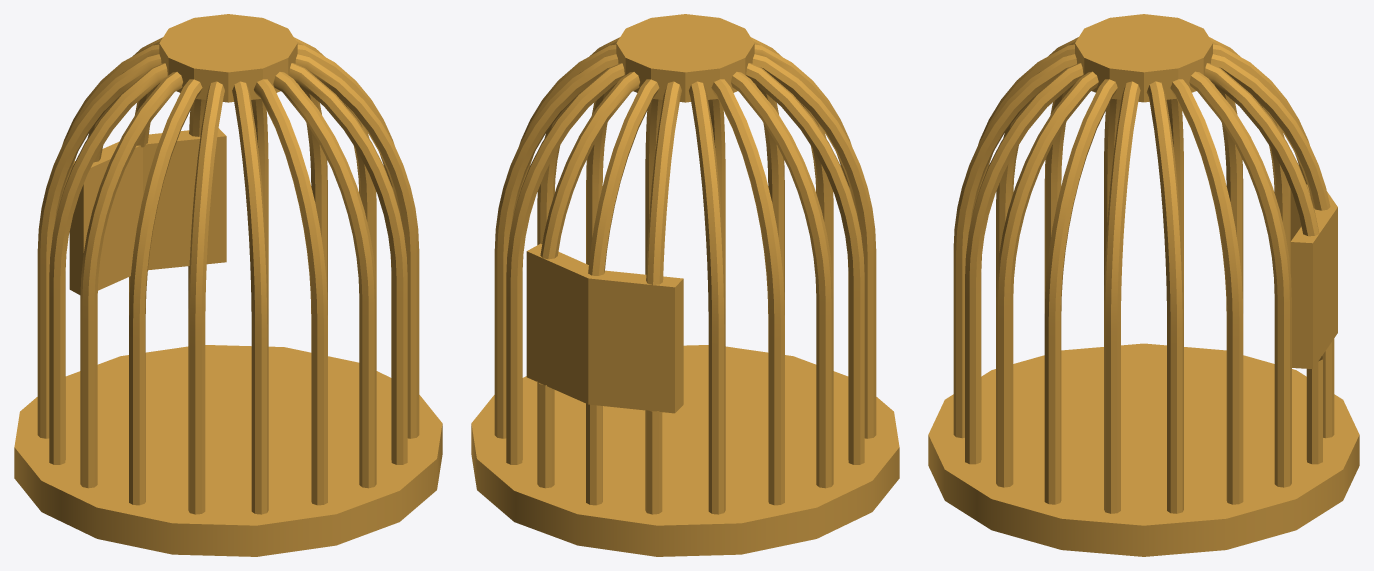
Rendered from bird cage.fbx.
3 views of the same model, side by side, from view 1: azimuth 30°, elevation 25°; view 2: azimuth 150°, elevation 25°; view 3: azimuth 270°, elevation 25° (orthographic).
Visible parts, largest first — view 1: birdcage; view 2: birdcage; view 3: birdcage.
Boxes of the visible parts, x1,y1,x2,y2 form: birdcage: [14, 14, 442, 556]; birdcage: [471, 14, 899, 556]; birdcage: [928, 14, 1359, 556].
Size of the model in its own units: 50 by 54.08 by 50.
